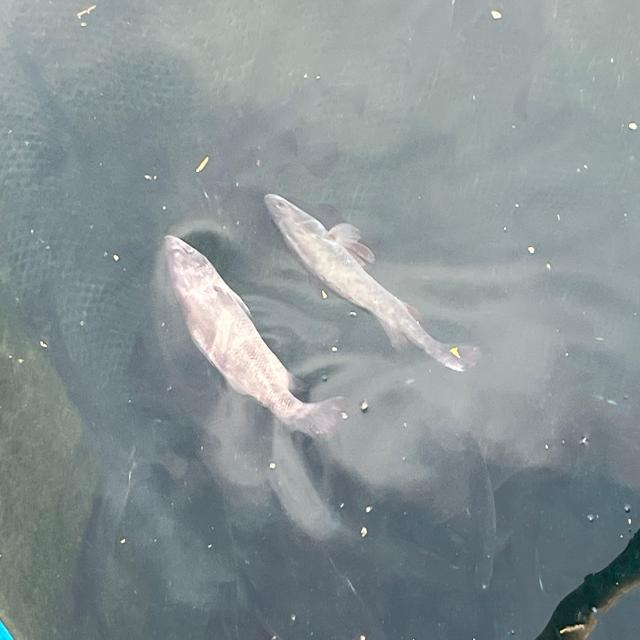ikan: (263, 191, 482, 374), (162, 233, 352, 441)
